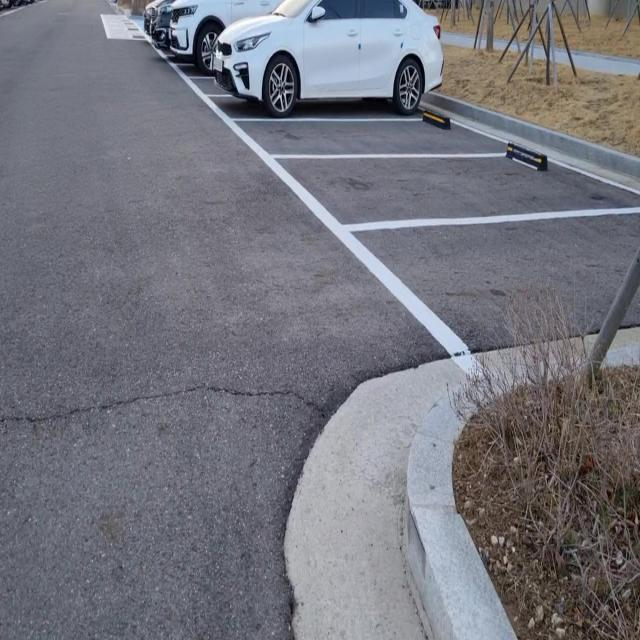empty: (342, 193, 640, 379), (271, 141, 640, 227), (225, 112, 528, 160)
occupied: (205, 4, 444, 124)
